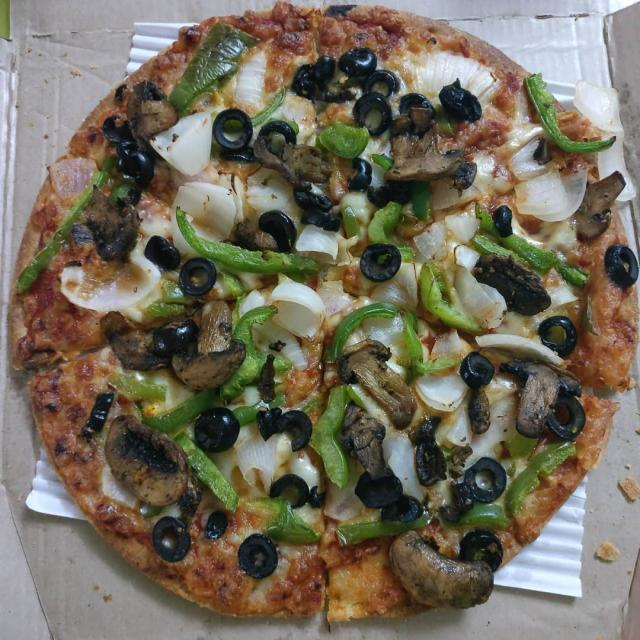black_olives: (344, 45, 390, 134), (400, 76, 488, 122), (357, 467, 418, 527), (104, 114, 150, 193), (257, 406, 315, 444), (196, 404, 240, 454), (268, 470, 314, 514), (537, 312, 578, 361), (464, 456, 506, 500), (151, 514, 189, 562), (460, 527, 501, 570), (237, 529, 276, 574), (260, 208, 299, 252), (215, 105, 248, 155), (256, 114, 294, 157), (363, 238, 398, 284), (608, 237, 638, 287), (462, 348, 497, 390), (178, 254, 213, 294), (86, 392, 122, 430), (158, 320, 193, 354), (147, 234, 180, 269), (497, 203, 519, 236), (347, 154, 366, 189)
mushrooms: (392, 526, 495, 614), (104, 412, 188, 505), (338, 338, 423, 429), (104, 306, 197, 378), (391, 104, 465, 186), (182, 303, 248, 387), (260, 136, 339, 200), (82, 188, 144, 262), (338, 409, 388, 476), (576, 167, 621, 240), (127, 78, 176, 136), (467, 387, 494, 435)
peppers: (15, 173, 105, 305), (168, 204, 324, 280), (524, 66, 611, 152), (473, 197, 568, 274), (176, 20, 245, 103), (228, 302, 286, 393), (177, 432, 237, 507), (307, 382, 350, 485), (506, 436, 564, 504), (324, 300, 395, 355), (345, 198, 403, 262), (410, 418, 455, 482), (332, 508, 416, 540), (318, 114, 371, 156), (271, 502, 314, 545), (459, 504, 507, 526)
pizza: (7, 1, 640, 633)
